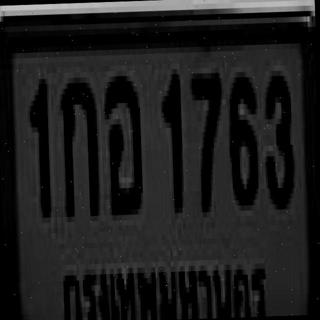A01: (58, 72, 98, 212)
A43: (101, 70, 141, 210)
N01: (26, 73, 49, 213), (160, 68, 182, 208)
N03: (260, 70, 292, 204)
N06: (225, 72, 257, 200)
N07: (189, 67, 224, 207)
P04: (56, 245, 272, 320)
